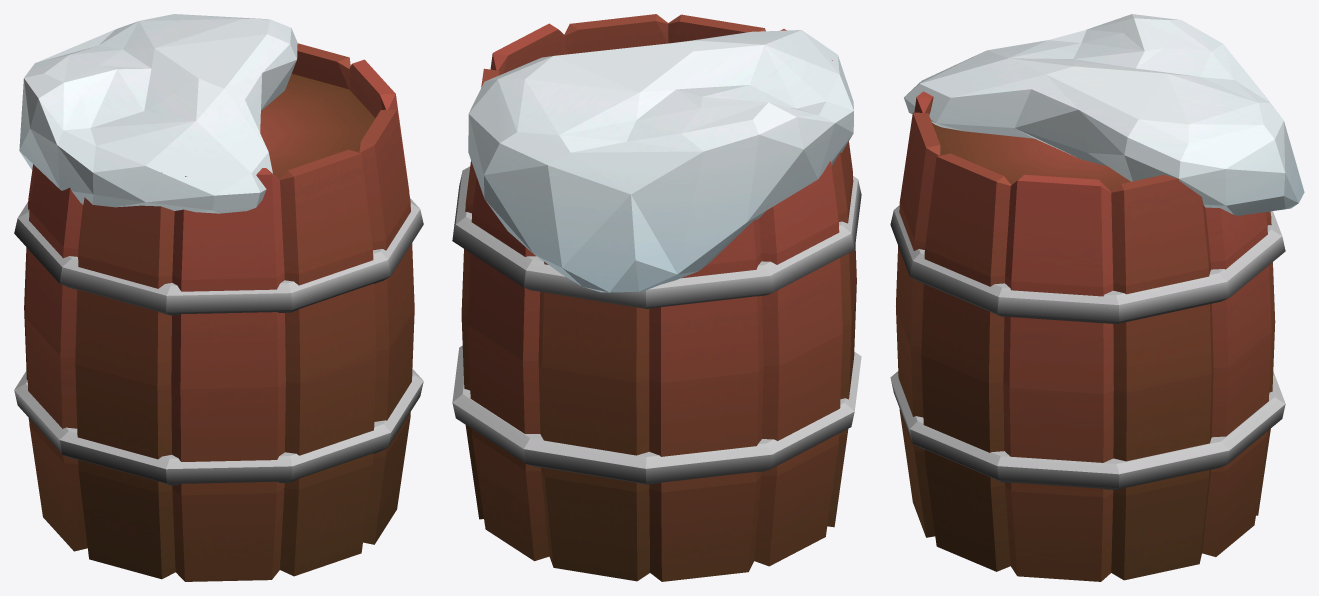
The picture shows the model from 3 angles, left to right: view 1: azimuth 30°, elevation 25°; view 2: azimuth 150°, elevation 25°; view 3: azimuth 270°, elevation 25°; orthographic projection. The views are drawn at different scales.
Visible parts, largest first — view 1: SnowyBarrel1; view 2: SnowyBarrel1; view 3: SnowyBarrel1.
Part boxes in pixels (<box>): SnowyBarrel1: <box>14,14,423,581</box>; SnowyBarrel1: <box>452,14,861,581</box>; SnowyBarrel1: <box>890,14,1304,581</box>.
Size of the model in its own units: 66.67 by 80 by 69.85.
Materials: 1 (1 with a texture image).
